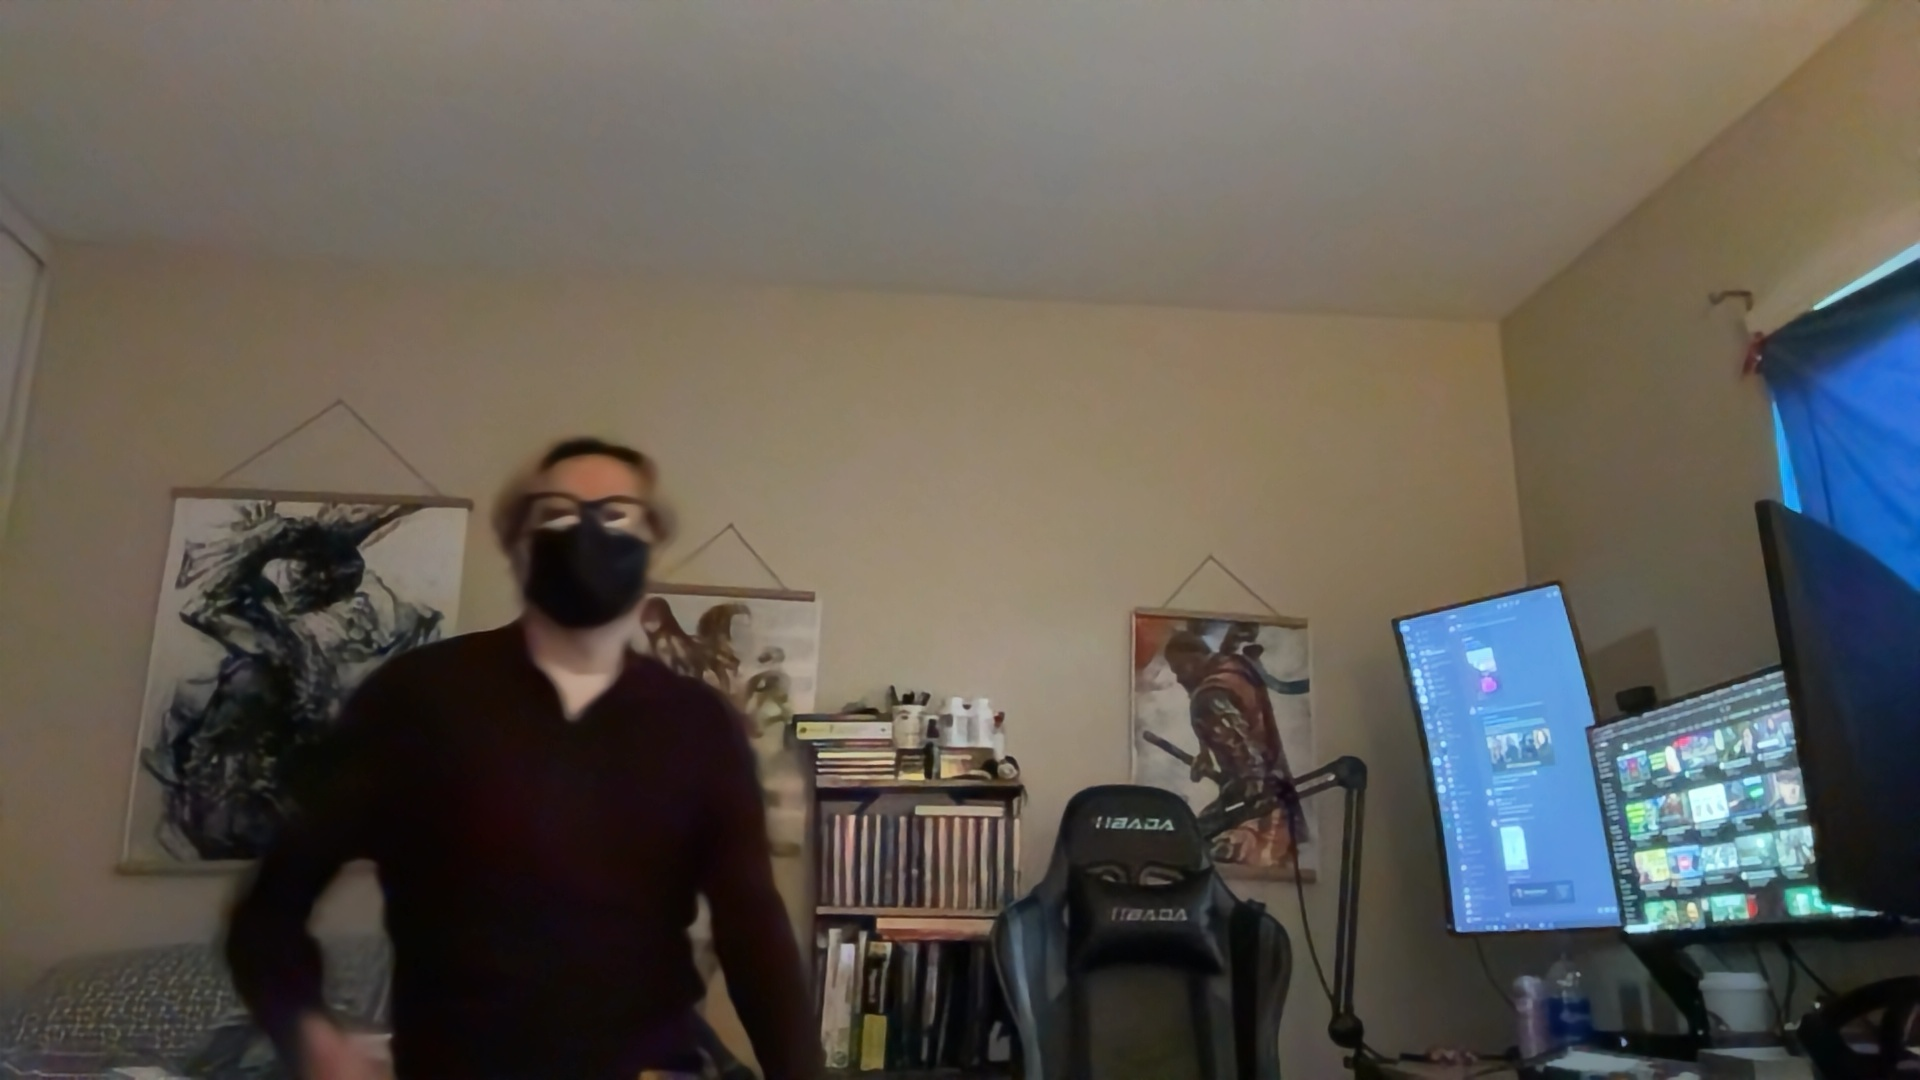glasses: (516, 493, 651, 537)
masked: (520, 475, 665, 626)
